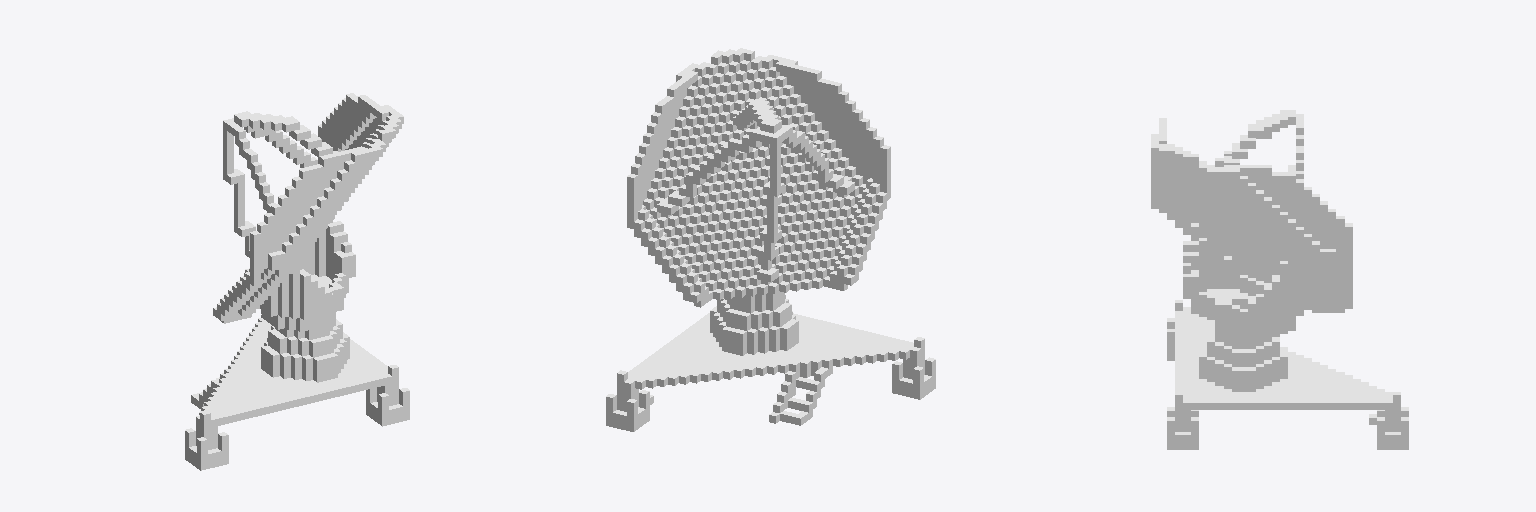
File: very_large_array_antenna_v1.obj
3 views of the same model, side by side, from view 1: azimuth 30°, elevation 25°; view 2: azimuth 150°, elevation 25°; view 3: azimuth 270°, elevation 25° (orthographic).
Parts seen in each view (by area): view 1: object 1; view 2: object 1; view 3: object 1.
Part boxes in pixels (bbox=[...]): object 1: bbox=[185, 93, 409, 470]; object 1: bbox=[606, 48, 935, 431]; object 1: bbox=[1151, 110, 1408, 449].
Bounding box in the file's own units: 3.2 × 4 × 3.2.